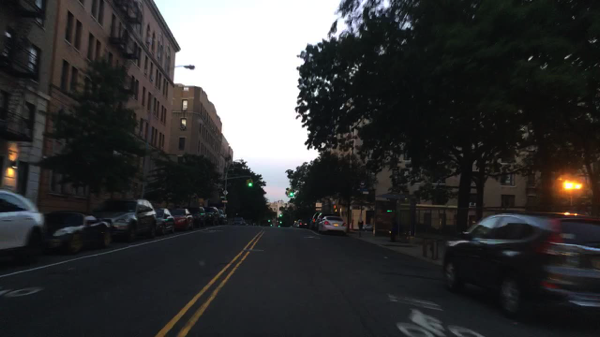car: (442, 210, 599, 334), (43, 208, 115, 255), (0, 189, 44, 265), (95, 197, 157, 241), (155, 206, 177, 236), (318, 216, 347, 235), (171, 209, 193, 232), (190, 206, 205, 228), (205, 206, 220, 225), (317, 213, 332, 228), (218, 208, 229, 226), (307, 213, 320, 228), (295, 220, 308, 229), (233, 218, 245, 225), (363, 225, 372, 232)
traffic light: (288, 186, 294, 197), (249, 179, 253, 188), (265, 217, 271, 222), (245, 179, 248, 187), (279, 213, 282, 220), (278, 221, 283, 225)
traffic sign: (220, 197, 228, 204), (222, 188, 228, 194)
